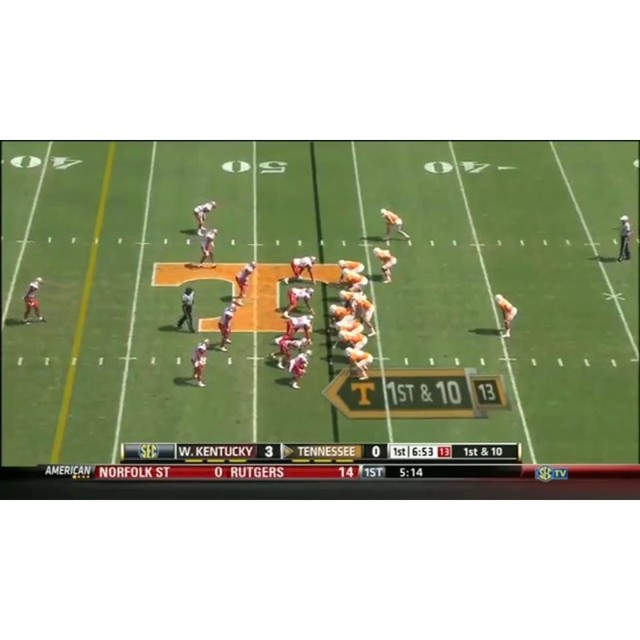american-football-player: (273, 313, 314, 346), (379, 208, 412, 245), (270, 338, 306, 370), (351, 294, 377, 337), (280, 256, 316, 287), (22, 277, 46, 323), (343, 346, 374, 381), (494, 293, 518, 338), (281, 287, 315, 318), (217, 301, 238, 351), (233, 261, 257, 304), (190, 338, 211, 387), (287, 351, 311, 389), (373, 247, 397, 284), (197, 228, 219, 268), (193, 200, 217, 235), (333, 329, 367, 352), (340, 270, 369, 292), (328, 304, 355, 327), (334, 316, 365, 335), (338, 258, 365, 275)
referee: (614, 214, 634, 264), (176, 286, 196, 334)
